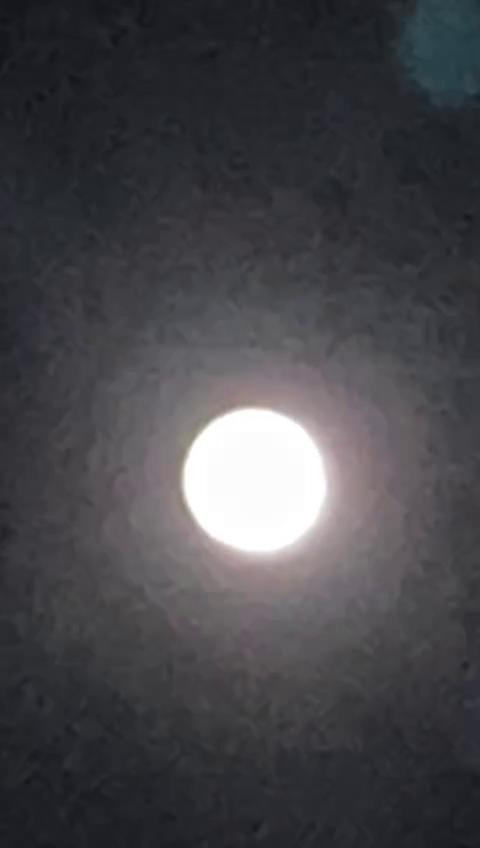moon: (154, 400, 332, 591)
